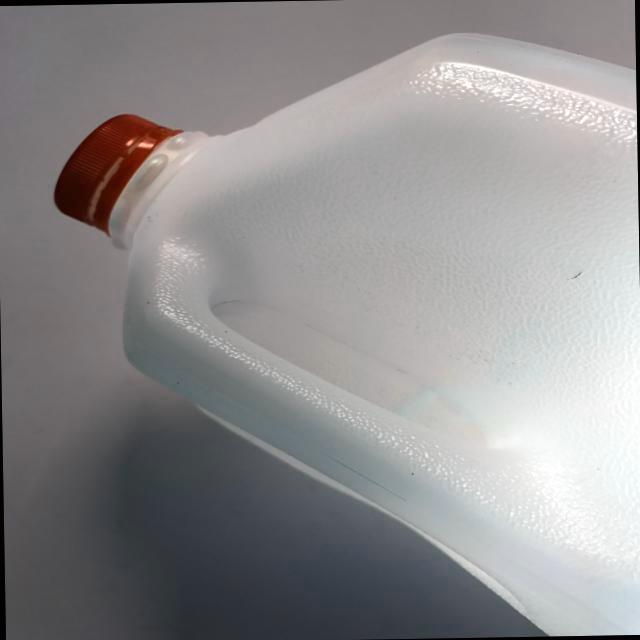plastic: (28, 20, 640, 640)
